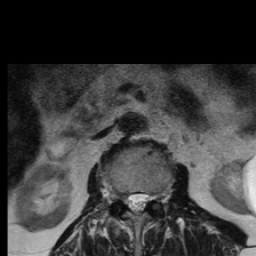CCS_normal: (133, 182, 140, 221)
LFS_stenosis: (148, 183, 158, 210)
LLS_normal: (140, 182, 148, 215)
RFS_stenosis: (116, 185, 125, 209)
RLS_normal: (125, 185, 133, 215)
